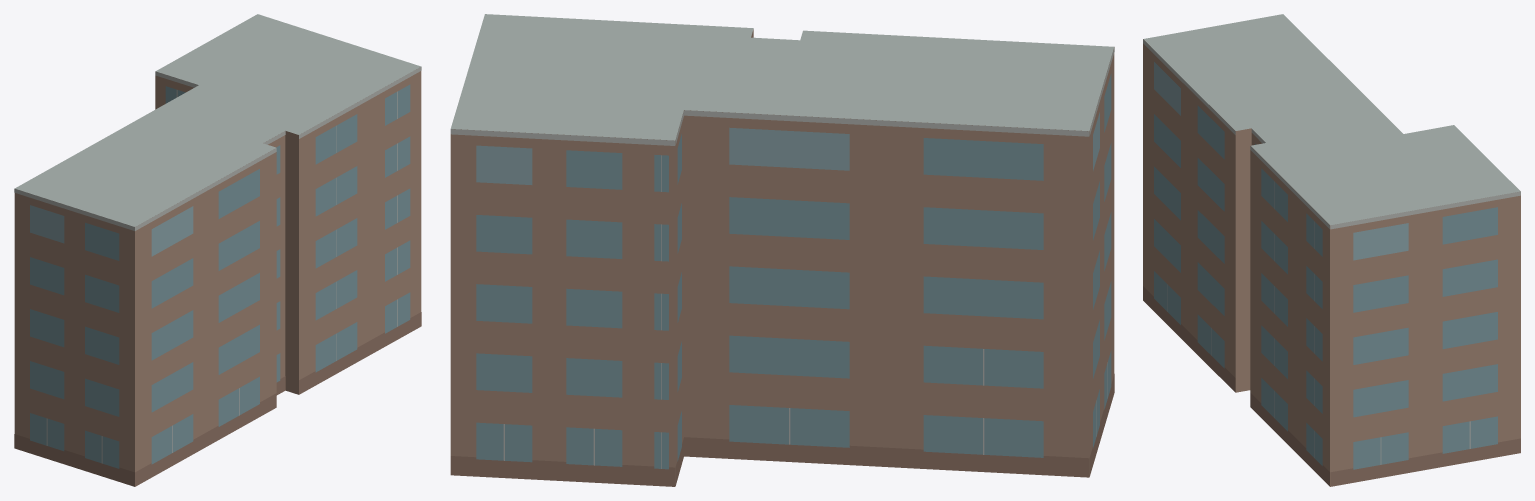
File: survey-upis-32754081.glb
3 views of the same model, side by side, from view 1: azimuth 30°, elevation 25°; view 2: azimuth 150°, elevation 25°; view 3: azimuth 270°, elevation 25° (orthographic). The views are drawn at different scales.
Visible parts, largest first — view 1: survey-upis-32754081.tmp; view 2: survey-upis-32754081.tmp; view 3: survey-upis-32754081.tmp.
Boxes of the visible parts, x1,y1,x2,y2 form: survey-upis-32754081.tmp: (14,14,421,486); survey-upis-32754081.tmp: (450,14,1114,486); survey-upis-32754081.tmp: (1143,14,1520,486).
Size of the model in its own units: 26.43 by 15.25 by 19.97.
